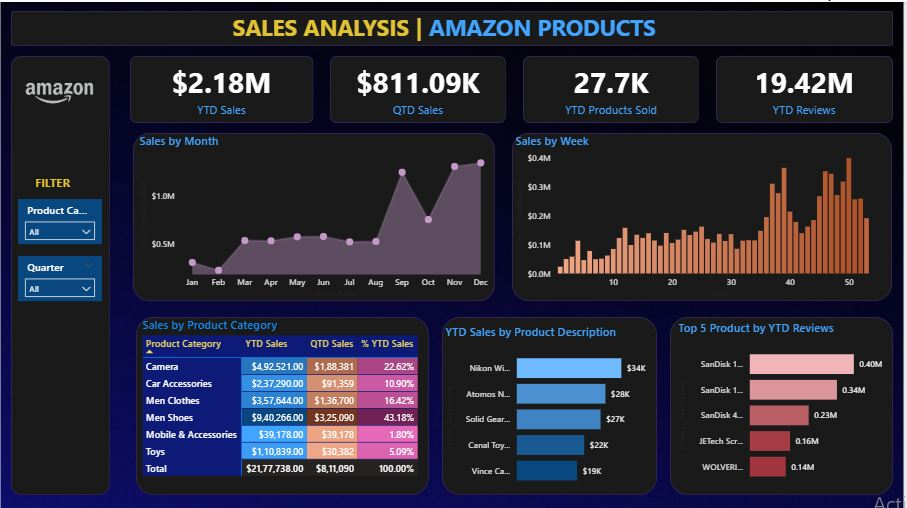

The page's visual inventory and layout, read from the dashboard file:
{"tool":"powerbi","page":{"name":"Page 1","canvas":[1280,720],"ordinal":0},"visuals":[{"type":"shape","box":[184.3,76.5,260,95],"z":0,"group":"g1"},{"type":"shape","box":[15.6,12.8,1250.1,49.6],"z":0},{"type":"card","fields":{"Values":["Amazon_Data.YTD Sales"]},"box":[184.3,76.5,259.4,95],"z":1000,"group":"g1"},{"type":"textbox","box":[324.6,8.5,632.1,53.9],"z":1000},{"type":"shape","box":[467.8,76.5,249.4,95],"z":2000,"group":"g1"},{"type":"shape","box":[15.6,76.5,140.3,622.2],"z":2000},{"type":"shape","box":[741.3,76.5,249.4,95],"z":3000,"group":"g1"},{"type":"group","id":"g1","title":"Group 1","box":[184.3,76.5,1081.4,95],"z":3000},{"type":"card","fields":{"Values":["Amazon_Data.QTD Sales"]},"box":[467.8,76.5,249.4,95],"z":4000,"group":"g1"},{"type":"shape","box":[188.6,185.7,512.9,238.6],"z":4000},{"type":"shape","box":[1014.9,76.5,250.9,95],"z":5000,"group":"g1"},{"type":"areaChart","title":"Sales by Month","fields":{"Category":["Date Table.Month Name"],"Y":["Sum(Amazon_Data.Price(Dollar))"]},"box":[192.9,185.7,508.6,238.6],"z":5000},{"type":"card","fields":{"Values":["Amazon_Data.YTD Products Sold"]},"box":[741.5,77.1,250,94.3],"z":6000,"group":"g1"},{"type":"shape","box":[725.7,185.7,538.6,238.1],"z":6000},{"type":"card","fields":{"Values":["Amazon_Data.YTD Reviews"]},"box":[1014.3,77.1,250,94.3],"z":7000,"group":"g1"},{"type":"columnChart","title":"Sales by Week","fields":{"Category":["Date Table.Week"],"Y":["Sum(Amazon_Data.Price(Dollar))"]},"box":[725.7,185.7,531.5,238.1],"z":7000},{"type":"shape","box":[192.8,446.5,415.3,252.3],"z":8000},{"type":"pivotTable","title":"Sales by Product Category","fields":{"Rows":["Amazon_Data.Product Category"],"Values":["Amazon_Data.YTD Sales1","Amazon_Data.QTD Sales","Amazon_Data.YTD Sales"]},"box":[197,446.5,429.4,273.5],"z":9000},{"type":"shape","box":[626.5,446.5,304.7,252.3],"z":10000},{"type":"shape","box":[949.6,446.5,316.1,252.3],"z":11000},{"type":"clusteredBarChart","fields":{"Category":["Amazon_Data.Product Description"],"Y":["Amazon_Data.YTD Sales"]},"box":[626.5,456.4,304.7,242.4],"z":12000},{"type":"clusteredBarChart","title":"Top 5 Product by YTD Reviews","fields":{"Category":["Amazon_Data.Product Description"],"Y":["Amazon_Data.YTD Reviews"]},"box":[956.7,450.7,304.7,242.4],"z":13000},{"type":"slicer","fields":{"Values":["Amazon_Data.Product Category"]},"box":[25.5,279.2,119.1,63.8],"z":14000},{"type":"slicer","fields":{"Values":["Date Table.Qtr"]},"box":[25.5,360,119.1,63.8],"z":15000},{"type":"image","box":[25.5,76.5,120.5,109.1],"z":16000},{"type":"textbox","box":[45.4,239.5,80.8,39.7],"z":17000}]}

Visuals, with their boxes in screenshot pixels (x1, y1, x2, y2), scaled from the page's 1280x720 canvas onto the 907x508 screenshot:
shape: 131,54,315,121
shape: 11,9,897,44
card - Amazon_Data.YTD Sales: 131,54,314,121
textbox: 230,6,678,44
shape: 331,54,508,121
shape: 11,54,110,493
shape: 525,54,702,121
"Group 1" group: 131,54,897,121
card - Amazon_Data.QTD Sales: 331,54,508,121
shape: 134,131,497,299
shape: 719,54,897,121
"Sales by Month" areaChart: 137,131,497,299
card - Amazon_Data.YTD Products Sold: 525,54,703,121
shape: 514,131,896,299
card - Amazon_Data.YTD Reviews: 719,54,896,121
"Sales by Week" columnChart: 514,131,891,299
shape: 137,315,431,493
"Sales by Product Category" pivotTable: 140,315,444,507
shape: 444,315,660,493
shape: 673,315,897,493
clusteredBarChart - Amazon_Data.Product Description x Amazon_Data.YTD Sales: 444,322,660,493
"Top 5 Product by YTD Reviews" clusteredBarChart: 678,318,894,489
slicer - Amazon_Data.Product Category: 18,197,102,242
slicer - Date Table.Qtr: 18,254,102,299
image: 18,54,103,131
textbox: 32,169,89,197
